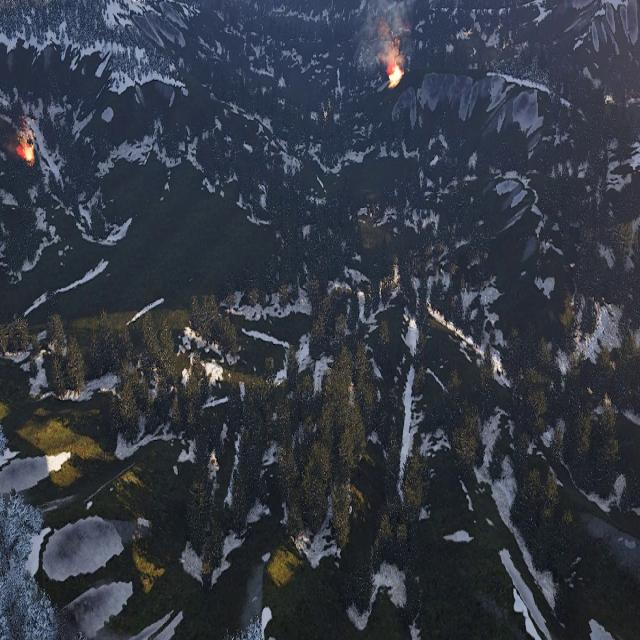fire: (20, 128, 39, 163), (388, 64, 402, 86)
smoke: (352, 0, 417, 61), (1, 112, 23, 162)
